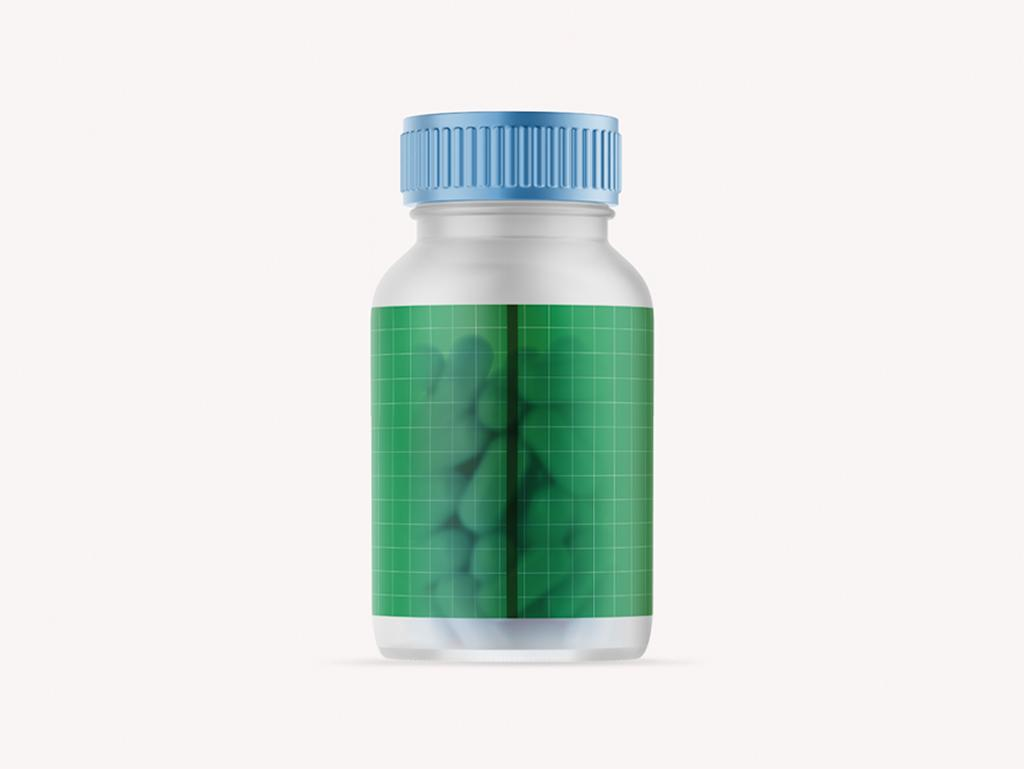jar: (366, 110, 658, 667)
